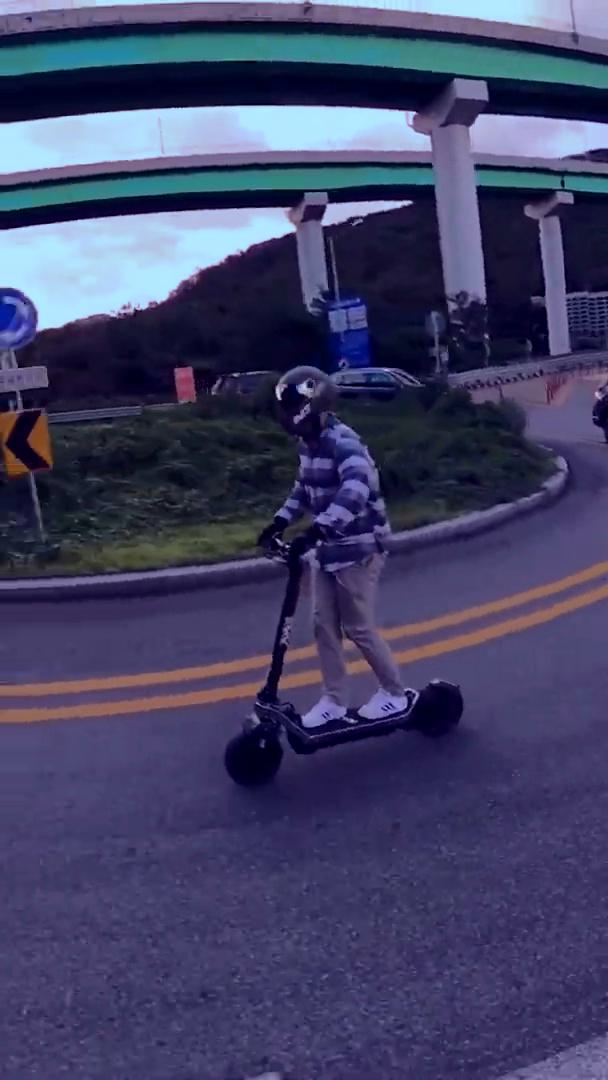helmet: (223, 361, 462, 789)
